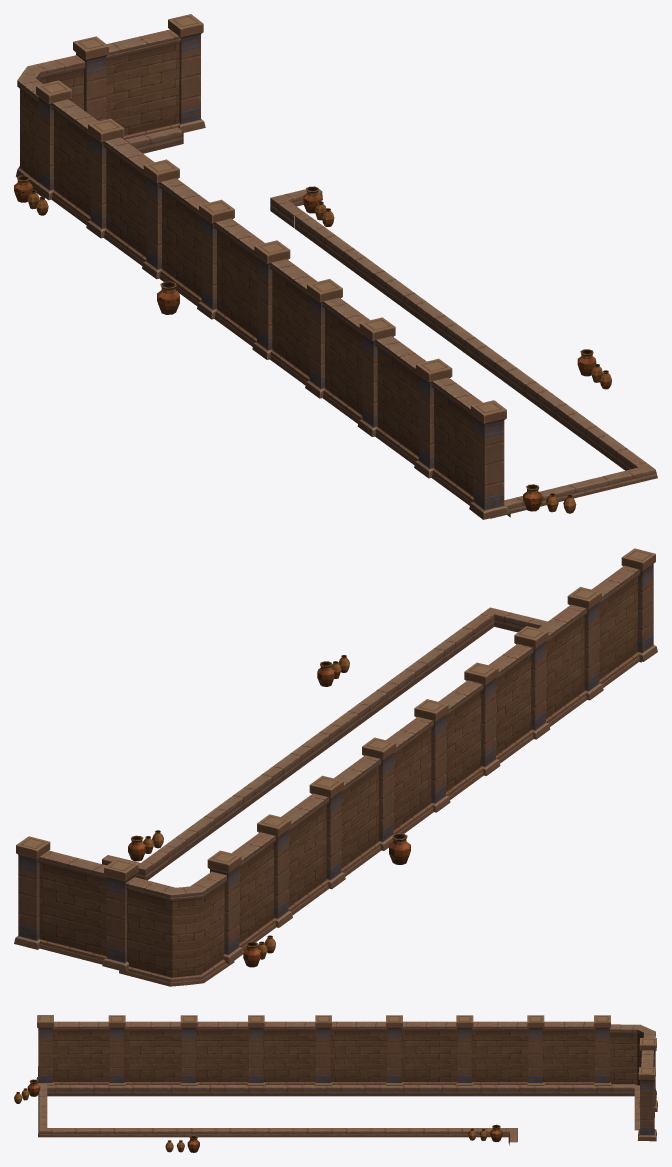
Rendered from Area_08_17.fbx.
3 views of the same model, one above another, from view 1: azimuth 30°, elevation 25°; view 2: azimuth 150°, elevation 25°; view 3: azimuth 270°, elevation 25° (orthographic). The views are drawn at different scales.
Parts seen in each view (by area): view 1: Area_08_17; view 2: Area_08_17; view 3: Area_08_17.
Boxes of the visible parts, x1,y1,x2,y2 form: Area_08_17: [14, 14, 657, 519]; Area_08_17: [14, 548, 657, 986]; Area_08_17: [14, 1015, 657, 1152].
Size of the model in its own units: 1325 by 533 by 4333.
